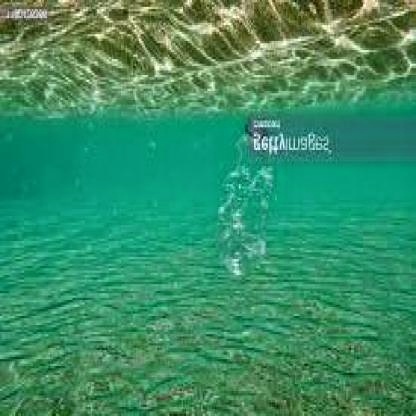pbottle: (212, 91, 284, 284)
